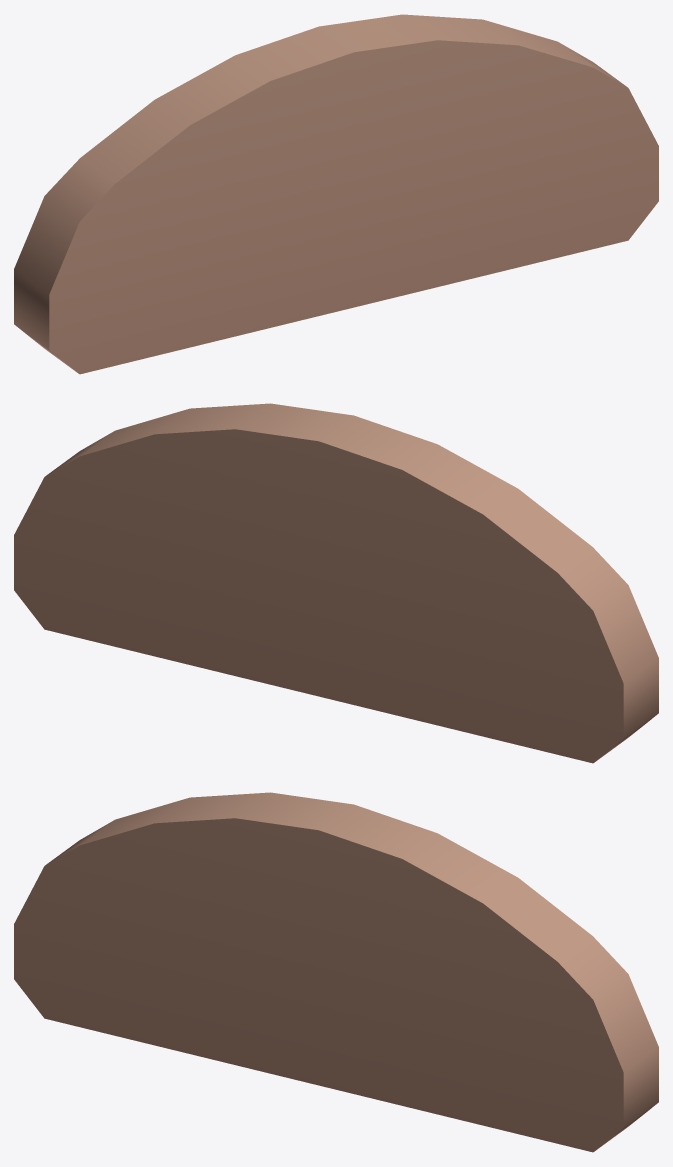
File: planks-plank-small-f.glb
3 renders of one model, top to bottom at view 1: azimuth 30°, elevation 25°; view 2: azimuth 150°, elevation 25°; view 3: azimuth 330°, elevation 25°, orthographic.
Visible parts, largest first — view 1: planks-plank-small-f; view 2: planks-plank-small-f; view 3: planks-plank-small-f.
Boxes of the visible parts, x1,y1,x2,y2 form: planks-plank-small-f: (14,14,658,374); planks-plank-small-f: (14,403,658,763); planks-plank-small-f: (14,792,658,1152).
Bounding box in the file's own units: 0.5 × 0.2 × 0.05.
